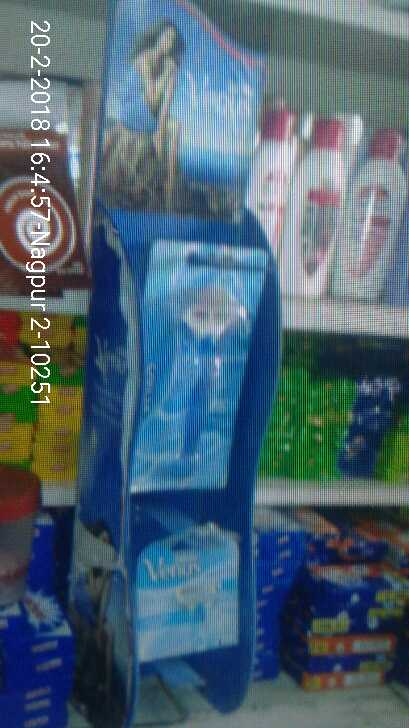venus: (132, 235, 266, 482), (137, 539, 245, 649)
